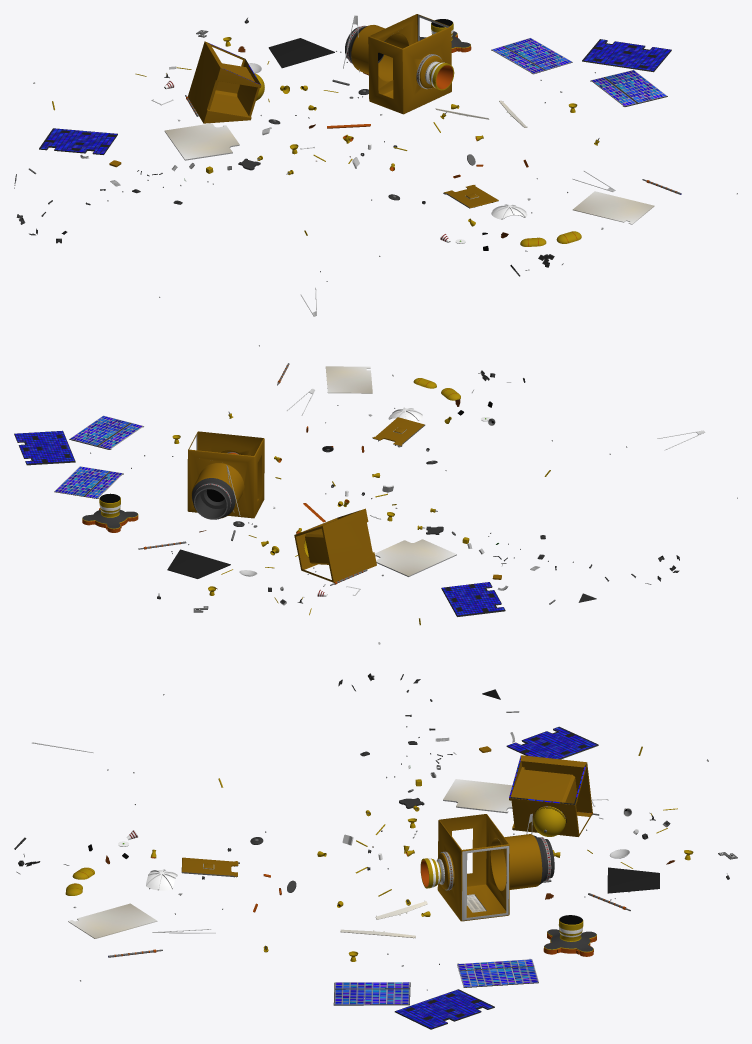
The model's file is c2 broken parts.fbx.
3 renders of one model, top to bottom at view 1: azimuth 30°, elevation 25°; view 2: azimuth 150°, elevation 25°; view 3: azimuth 270°, elevation 25°, orthographic. The views are drawn at different scales.
Visible parts, largest first — view 1: Vikram_Lander_Vikram_Color_0.124, Vikram_Lander_Vikram_Color_0, Vikram_Lander_Vikram_Color_0.125, Vikram_Lander_Vikram_Color_0.001, Vikram_Lander_Vikram_Color_0.216, Vikram_Lander_Vikram_Color_0.230, Vikram_Lander_Vikram_Color_0.183, Vikram_Lander_Vikram_Color_0.002, Vikram_Lander_Vikram_Color_0.003, Vikram_Lander_Vikram_Color_0.004, Vikram_Lander_Vikram_Color_0.026; view 2: Vikram_Lander_Vikram_Color_0.124, Vikram_Lander_Vikram_Color_0, Vikram_Lander_Vikram_Color_0.125, Vikram_Lander_Vikram_Color_0.001, Vikram_Lander_Vikram_Color_0.002, Vikram_Lander_Vikram_Color_0.216, Vikram_Lander_Vikram_Color_0.230, Vikram_Lander_Vikram_Color_0.183, Vikram_Lander_Vikram_Color_0.026, Vikram_Lander_Vikram_Color_0.003, Vikram_Lander_Vikram_Color_0.004; view 3: Vikram_Lander_Vikram_Color_0.124, Vikram_Lander_Vikram_Color_0, Vikram_Lander_Vikram_Color_0.001, Vikram_Lander_Vikram_Color_0.230, Vikram_Lander_Vikram_Color_0.216, Vikram_Lander_Vikram_Color_0.125, Vikram_Lander_Vikram_Color_0.002, Vikram_Lander_Vikram_Color_0.183, Vikram_Lander_Vikram_Color_0.026, Vikram_Lander_Vikram_Color_0.003, Vikram_Lander_Vikram_Color_0.004.
Part boxes in pixels (x1=…): Vikram_Lander_Vikram_Color_0.124: x1=345, y1=14, x2=454, y2=114; Vikram_Lander_Vikram_Color_0: x1=187, y1=41, x2=264, y2=123; Vikram_Lander_Vikram_Color_0.125: x1=164, y1=123, x2=239, y2=160; Vikram_Lander_Vikram_Color_0.001: x1=582, y1=39, x2=671, y2=72; Vikram_Lander_Vikram_Color_0.216: x1=590, y1=70, x2=667, y2=106; Vikram_Lander_Vikram_Color_0.230: x1=491, y1=38, x2=572, y2=74; Vikram_Lander_Vikram_Color_0.183: x1=572, y1=191, x2=654, y2=224; Vikram_Lander_Vikram_Color_0.002: x1=39, y1=128, x2=117, y2=154; Vikram_Lander_Vikram_Color_0.003: x1=268, y1=38, x2=334, y2=68; Vikram_Lander_Vikram_Color_0.004: x1=443, y1=185, x2=498, y2=208; Vikram_Lander_Vikram_Color_0.026: x1=420, y1=19, x2=471, y2=52; Vikram_Lander_Vikram_Color_0.124: x1=187, y1=431, x2=264, y2=519; Vikram_Lander_Vikram_Color_0: x1=294, y1=508, x2=376, y2=582; Vikram_Lander_Vikram_Color_0.125: x1=375, y1=539, x2=456, y2=576; Vikram_Lander_Vikram_Color_0.001: x1=14, y1=430, x2=75, y2=465; Vikram_Lander_Vikram_Color_0.002: x1=441, y1=582, x2=505, y2=616; Vikram_Lander_Vikram_Color_0.216: x1=69, y1=415, x2=143, y2=449; Vikram_Lander_Vikram_Color_0.230: x1=54, y1=466, x2=123, y2=498; Vikram_Lander_Vikram_Color_0.183: x1=325, y1=366, x2=372, y2=393; Vikram_Lander_Vikram_Color_0.026: x1=82, y1=493, x2=138, y2=532; Vikram_Lander_Vikram_Color_0.003: x1=167, y1=549, x2=230, y2=578; Vikram_Lander_Vikram_Color_0.004: x1=372, y1=417, x2=425, y2=447; Vikram_Lander_Vikram_Color_0.124: x1=420, y1=814, x2=554, y2=921; Vikram_Lander_Vikram_Color_0: x1=509, y1=755, x2=592, y2=836; Vikram_Lander_Vikram_Color_0.001: x1=394, y1=989, x2=494, y2=1029; Vikram_Lander_Vikram_Color_0.230: x1=457, y1=959, x2=538, y2=987; Vikram_Lander_Vikram_Color_0.216: x1=333, y1=982, x2=410, y2=1005; Vikram_Lander_Vikram_Color_0.125: x1=443, y1=779, x2=512, y2=813; Vikram_Lander_Vikram_Color_0.002: x1=506, y1=726, x2=598, y2=759; Vikram_Lander_Vikram_Color_0.183: x1=68, y1=903, x2=157, y2=938; Vikram_Lander_Vikram_Color_0.026: x1=543, y1=915, x2=596, y2=956; Vikram_Lander_Vikram_Color_0.003: x1=607, y1=867, x2=659, y2=893; Vikram_Lander_Vikram_Color_0.004: x1=181, y1=857, x2=239, y2=877.
Bounding box in the file's own units: 294 × 30.55 × 254.
4 materials, 2 textured.
